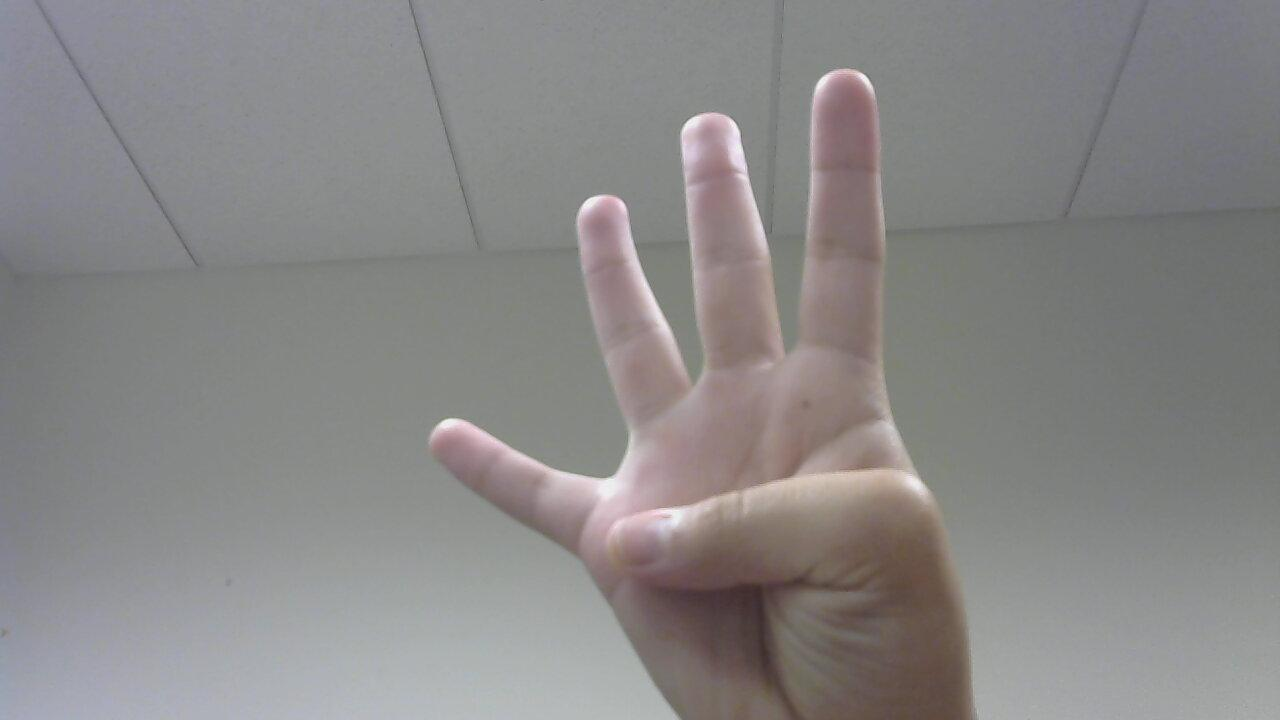hands: (423, 82, 1010, 701)
